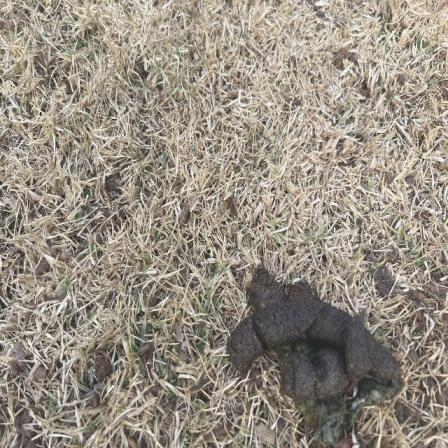dog-poop: (235, 263, 406, 435)
